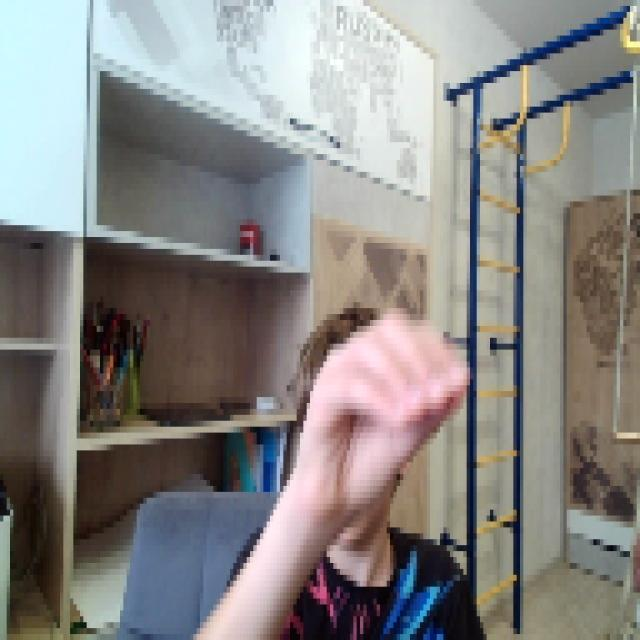left_click: (296, 296, 466, 504)
